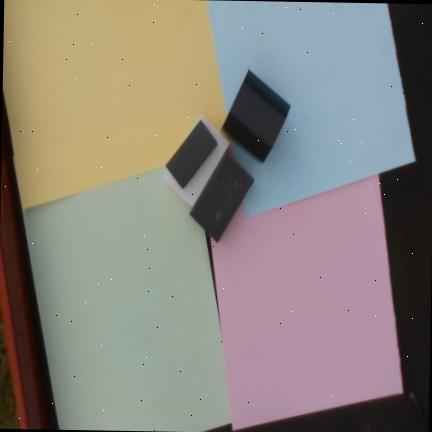Paralelepipedo: (163, 115, 230, 207), (189, 153, 254, 243), (165, 119, 218, 189)
Prisma_hexagonal: (220, 69, 291, 163)
